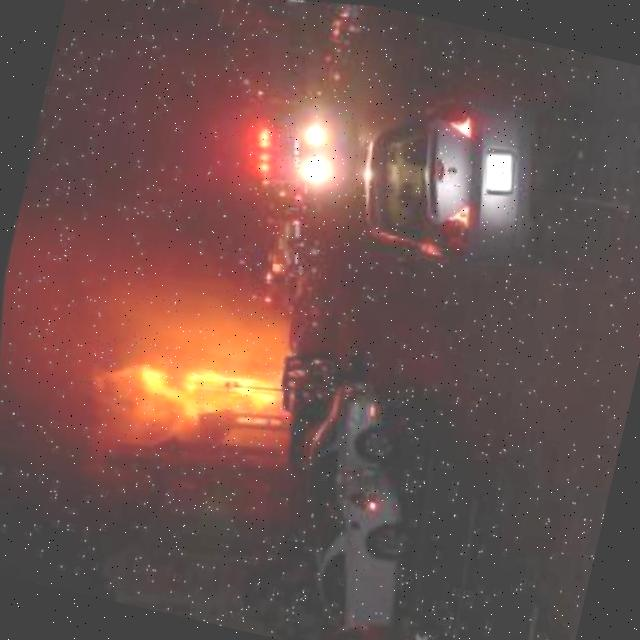fire: (77, 321, 289, 438), (46, 365, 226, 487)
